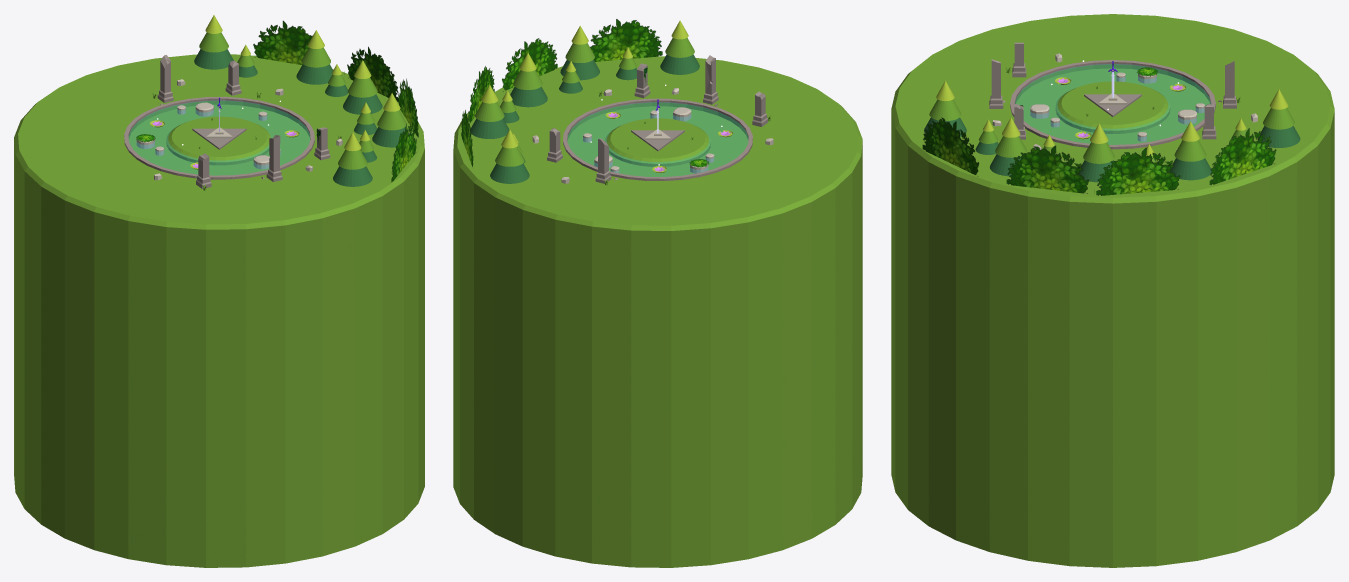
The model's file is heart_of_the_forest.glb.
The picture shows the model from 3 angles, left to right: view 1: azimuth 30°, elevation 25°; view 2: azimuth 150°, elevation 25°; view 3: azimuth 270°, elevation 25°; orthographic projection. The views are drawn at different scales.
Visible parts, largest first — view 1: Ground_Ground_0, Misc_TT_checker_512x512_UV_GRID_0, Water_Water_0, Leaf_Texture.001_Leaf_Texture_0, Ground_Ring_0; view 2: Ground_Ground_0, Misc_TT_checker_512x512_UV_GRID_0, Water_Water_0, Leaf_Texture.001_Leaf_Texture_0, Ground_Ring_0; view 3: Ground_Ground_0, Misc_TT_checker_512x512_UV_GRID_0, Leaf_Texture.001_Leaf_Texture_0, Water_Water_0, Ground_Ring_0.
Part boxes in pixels (x1,y1,x2,y2): Ground_Ground_0: (14,54,424,567); Misc_TT_checker_512x512_UV_GRID_0: (136,15,409,190); Water_Water_0: (129,100,309,175); Leaf_Texture.001_Leaf_Texture_0: (136,20,418,182); Ground_Ring_0: (124,96,314,179); Ground_Ground_0: (453,56,862,567); Misc_TT_checker_512x512_UV_GRID_0: (470,20,773,185); Water_Water_0: (567,102,748,176); Leaf_Texture.001_Leaf_Texture_0: (461,19,708,167); Ground_Ring_0: (563,98,752,180); Ground_Ground_0: (891,14,1334,567); Misc_TT_checker_512x512_UV_GRID_0: (924,42,1300,182); Leaf_Texture.001_Leaf_Texture_0: (922,67,1276,195); Water_Water_0: (1015,64,1210,144); Ground_Ring_0: (1010,60,1215,149).
Bounding box in the file's own units: 54030 × 56855 × 54030.
13 materials, 3 textured.
